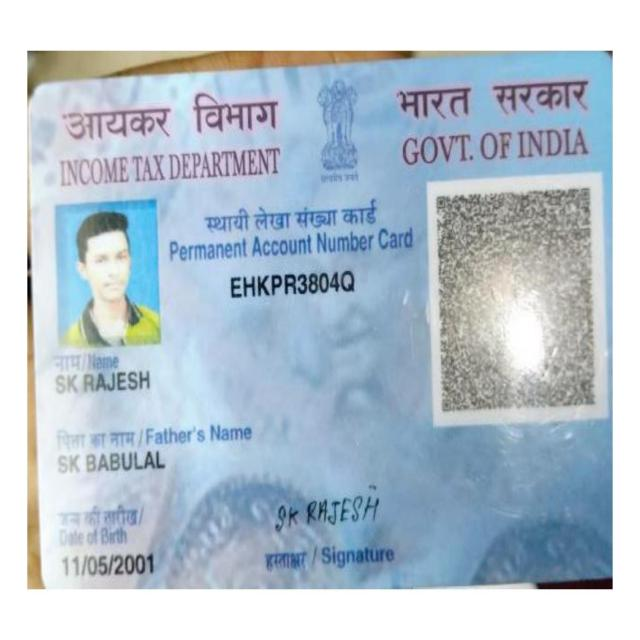pan_card: (31, 51, 614, 590)
